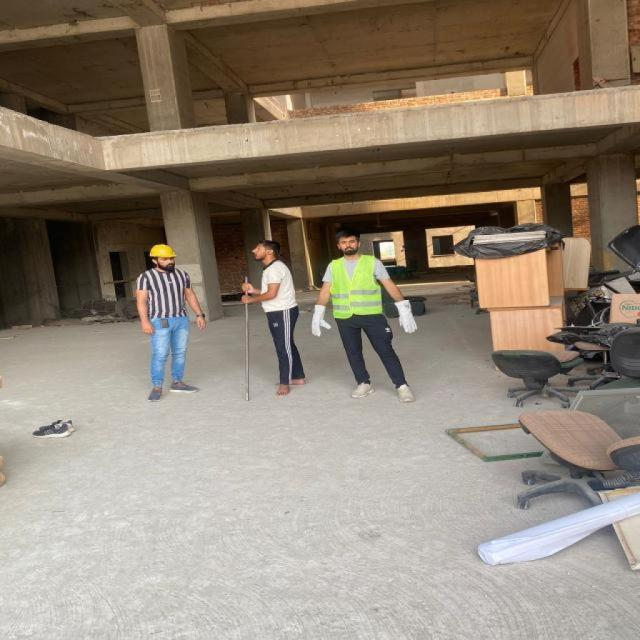Gloves-Detection: (306, 303, 338, 350), (389, 298, 422, 332)
